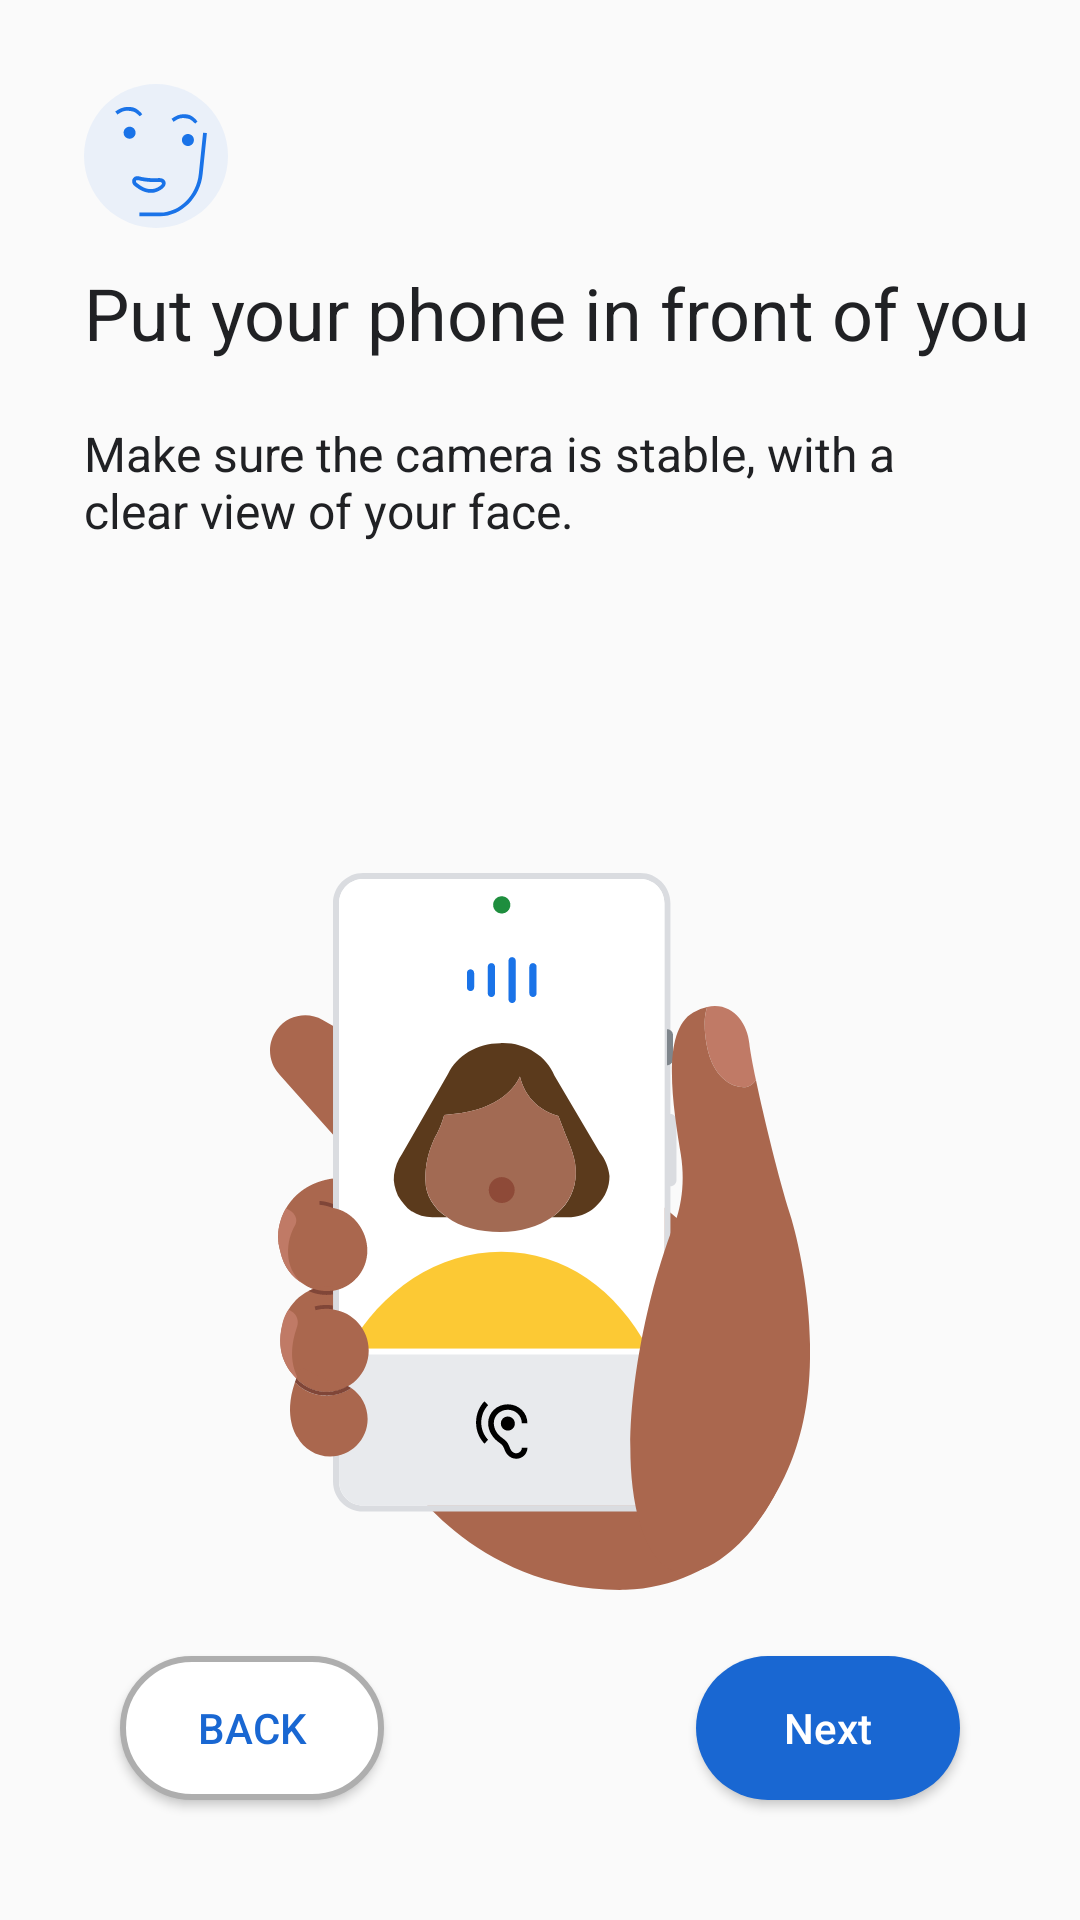

Locate icon controls on the screen. Image size 1080x1920, boxes as [x1, y1, x2, y2].
gameface face: [84, 84, 228, 228]
